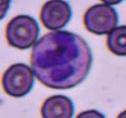N: (31, 30, 92, 88)
